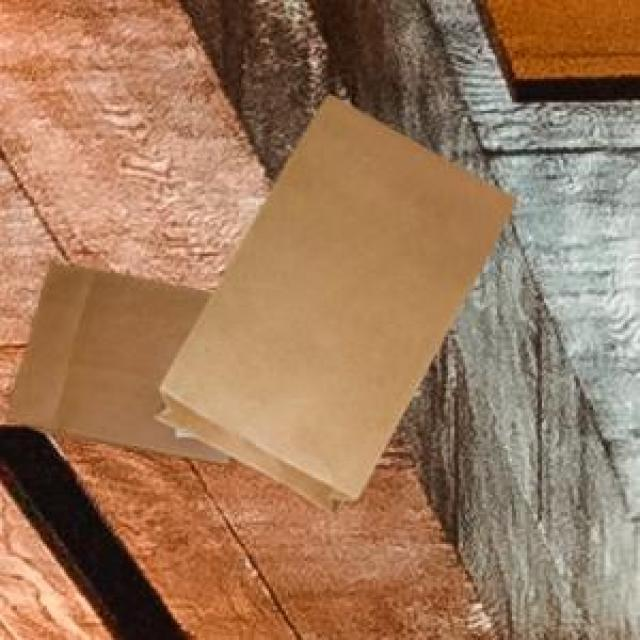paper: (152, 92, 512, 510), (2, 258, 224, 459)
